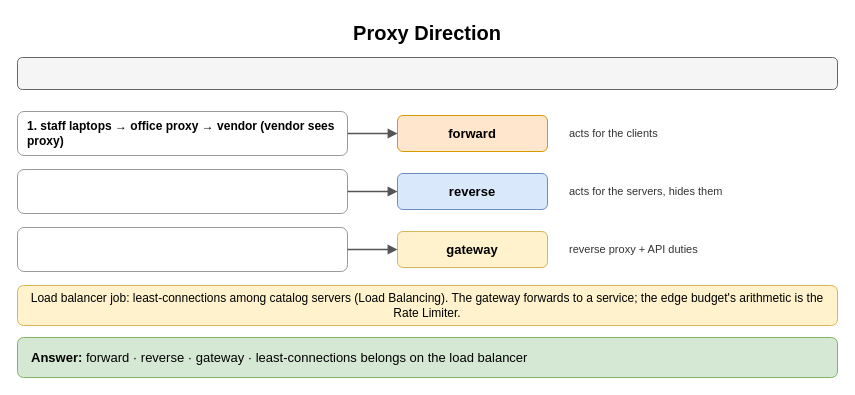
Some shapes in this 855 by 395 pixel diagram are drawn without their labels. Here are the shapes that lost their labels. From the top down, the centre of each, then its label:
point 427,73: Classify each placement; name one job for the load balancer
point 182,191: 2. one public address → catalog server; no token check
point 182,249: 3. checks token, /bookings and /gauges by path, edge budget
